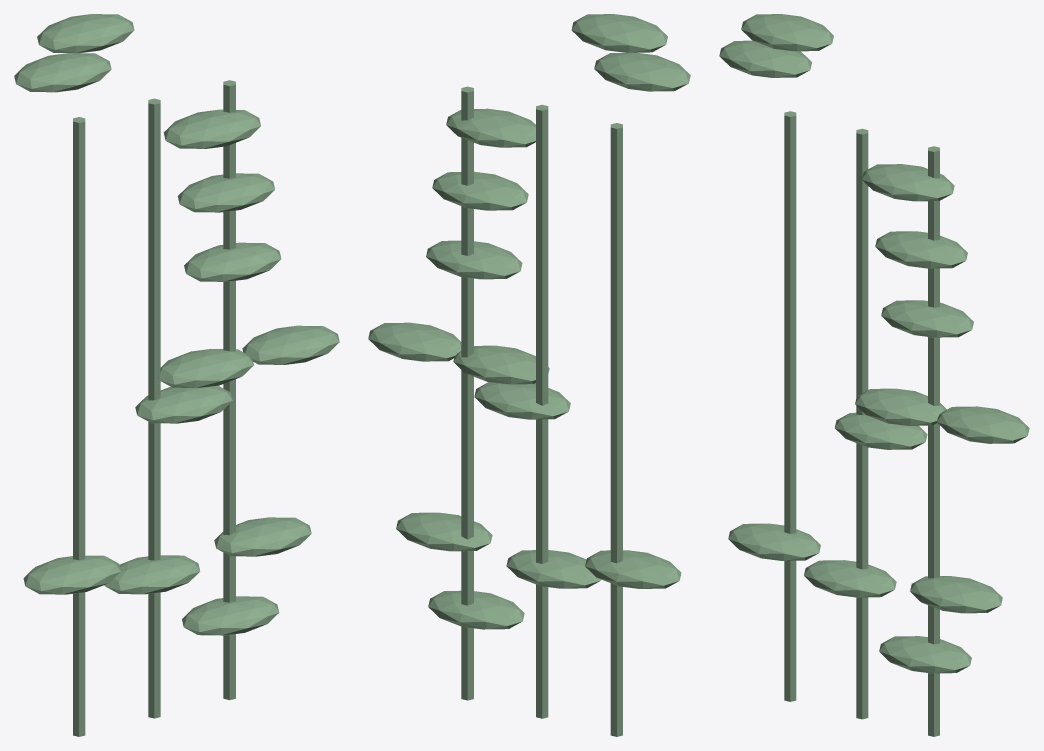
The model's file is ivy_trellis_04.glb.
The picture shows the model from 3 angles, left to right: view 1: azimuth 30°, elevation 25°; view 2: azimuth 150°, elevation 25°; view 3: azimuth 330°, elevation 25°; orthographic projection. The views are drawn at different scales.
Parts seen in each view (by area): view 1: vine0, vine1, vine2, leaf1, leaf3, leaf2, leaf8, leaf10, leaf6, leaf5, leaf4, leaf11 (+3 smaller); view 2: vine0, vine1, vine2, leaf1, leaf3, leaf2, leaf6, leaf10, leaf5, leaf9, leaf8, leaf11 (+3 smaller); view 3: vine0, vine1, vine2, leaf2, leaf3, leaf11, leaf9, leaf7, leaf10, leaf5, leaf6, leaf8 (+3 smaller).
Part boxes in pixels (bbox=[...]): vine0: bbox=[73, 117, 85, 736]; vine1: bbox=[148, 98, 160, 718]; vine2: bbox=[223, 80, 235, 700]; leaf1: bbox=[14, 53, 111, 92]; leaf3: bbox=[37, 14, 134, 53]; leaf2: bbox=[242, 325, 339, 364]; leaf8: bbox=[163, 109, 260, 148]; leaf10: bbox=[177, 173, 274, 212]; leaf6: bbox=[23, 555, 120, 594]; leaf5: bbox=[182, 596, 279, 635]; leaf4: bbox=[158, 349, 253, 387]; leaf11: bbox=[214, 517, 311, 556]; vine0: bbox=[610, 123, 622, 736]; vine1: bbox=[536, 104, 548, 718]; vine2: bbox=[461, 86, 473, 700]; leaf1: bbox=[594, 52, 690, 91]; leaf3: bbox=[571, 14, 667, 52]; leaf2: bbox=[368, 322, 461, 361]; leaf6: bbox=[585, 550, 681, 588]; leaf10: bbox=[432, 171, 528, 210]; leaf5: bbox=[428, 590, 524, 629]; leaf9: bbox=[426, 240, 522, 279]; leaf8: bbox=[446, 108, 535, 147]; leaf11: bbox=[396, 512, 492, 551]; vine0: bbox=[784, 111, 796, 701]; vine1: bbox=[856, 128, 868, 719]; vine2: bbox=[928, 146, 939, 736]; leaf2: bbox=[937, 406, 1029, 443]; leaf3: bbox=[741, 14, 833, 51]; leaf11: bbox=[910, 576, 1002, 613]; leaf9: bbox=[881, 300, 973, 337]; leaf7: bbox=[804, 560, 896, 597]; leaf10: bbox=[875, 231, 967, 268]; leaf5: bbox=[879, 636, 971, 673]; leaf6: bbox=[728, 523, 820, 560]; leaf8: bbox=[862, 164, 954, 201].
Bounding box in the file's own units: 0.7696 × 1.63 × 0.14.
